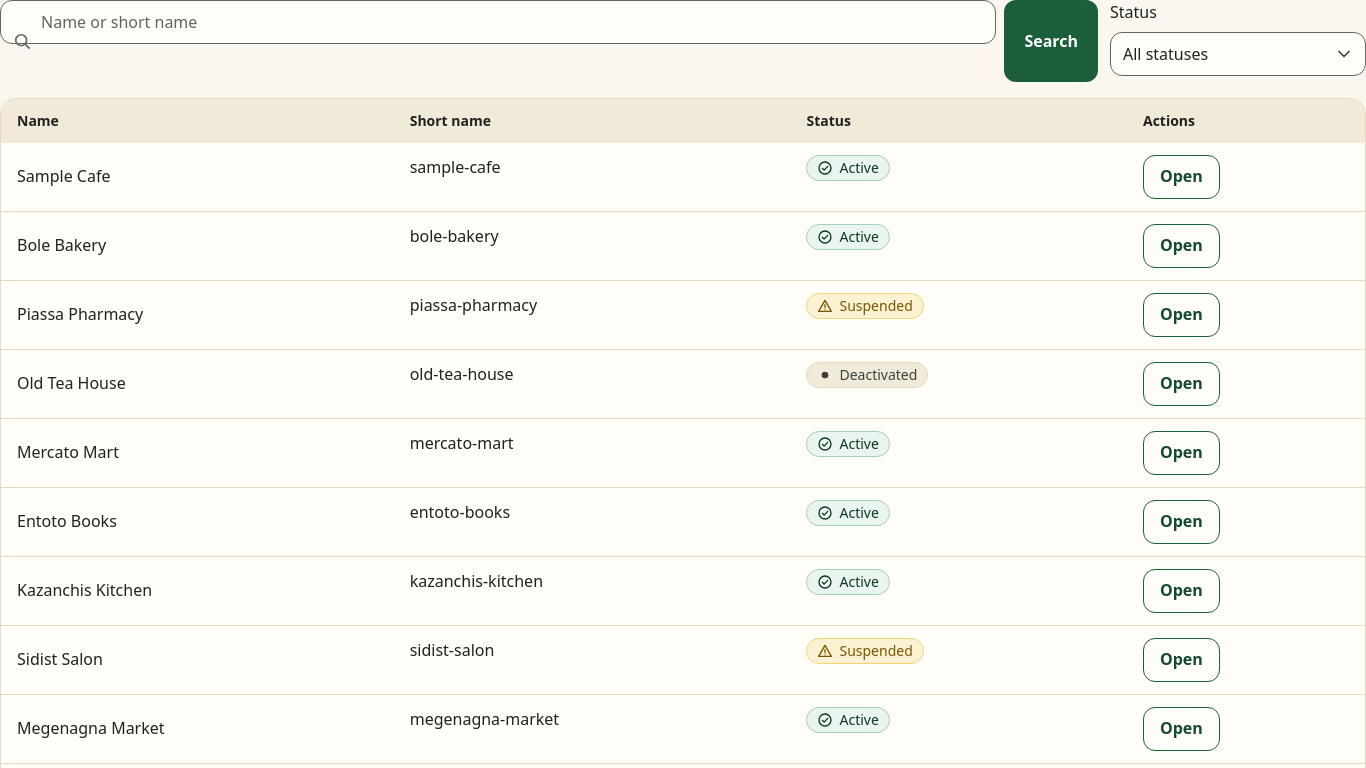
Test: merchants › searches, filters by status, and explains when nothing matches
The image size is (1366, 768).
Step 1. Select "Suspended" in the dropdown labelled "Status" → (1238, 54), box [1110,32,1365,76]
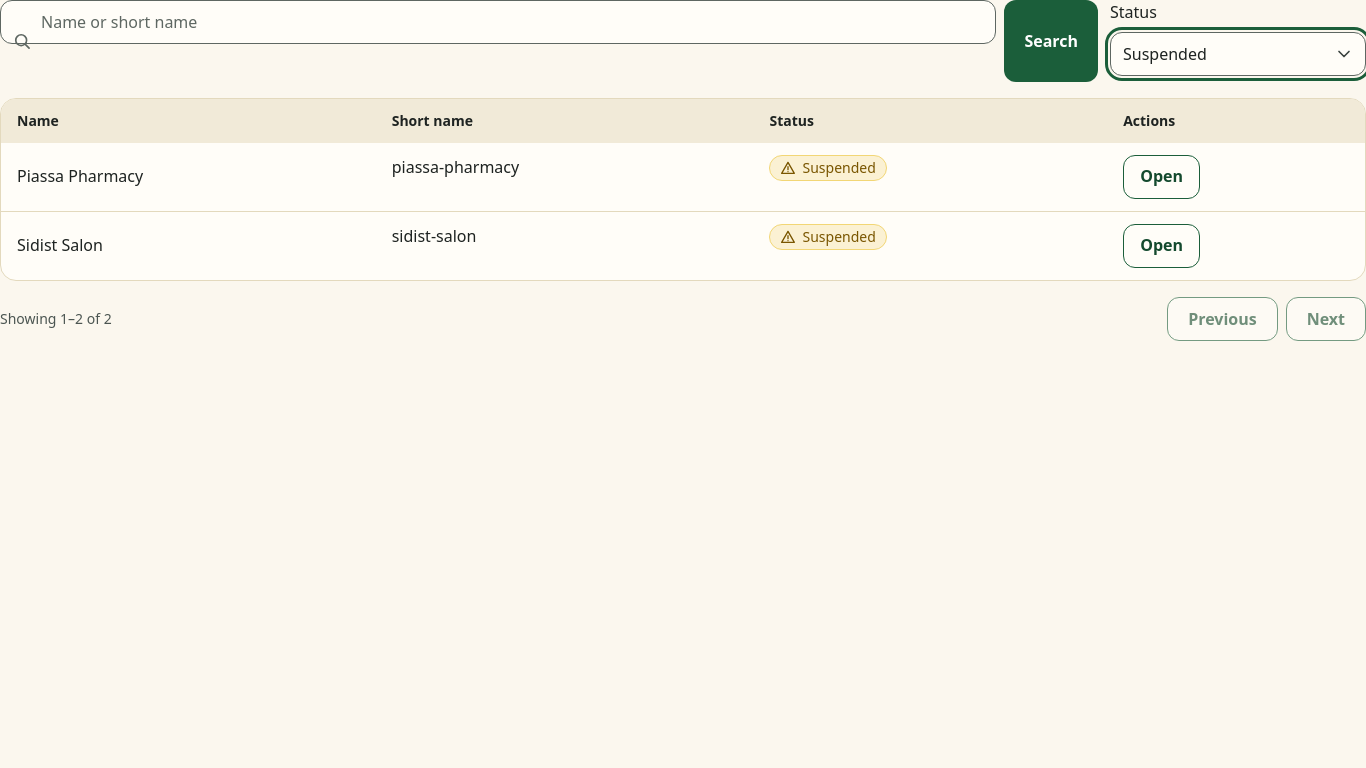
Expected: the text "Suspended" in the row of "Piassa Pharmacy" is shown, [802,158,876,177]
Expected: the text "Suspended" in the row of "Sidist Salon" is shown, [802,227,876,246]
Step 2. Type "zzzz" into the search field named "Search merchants" → (498, 22), box [0,0,996,44]
Then press Enter
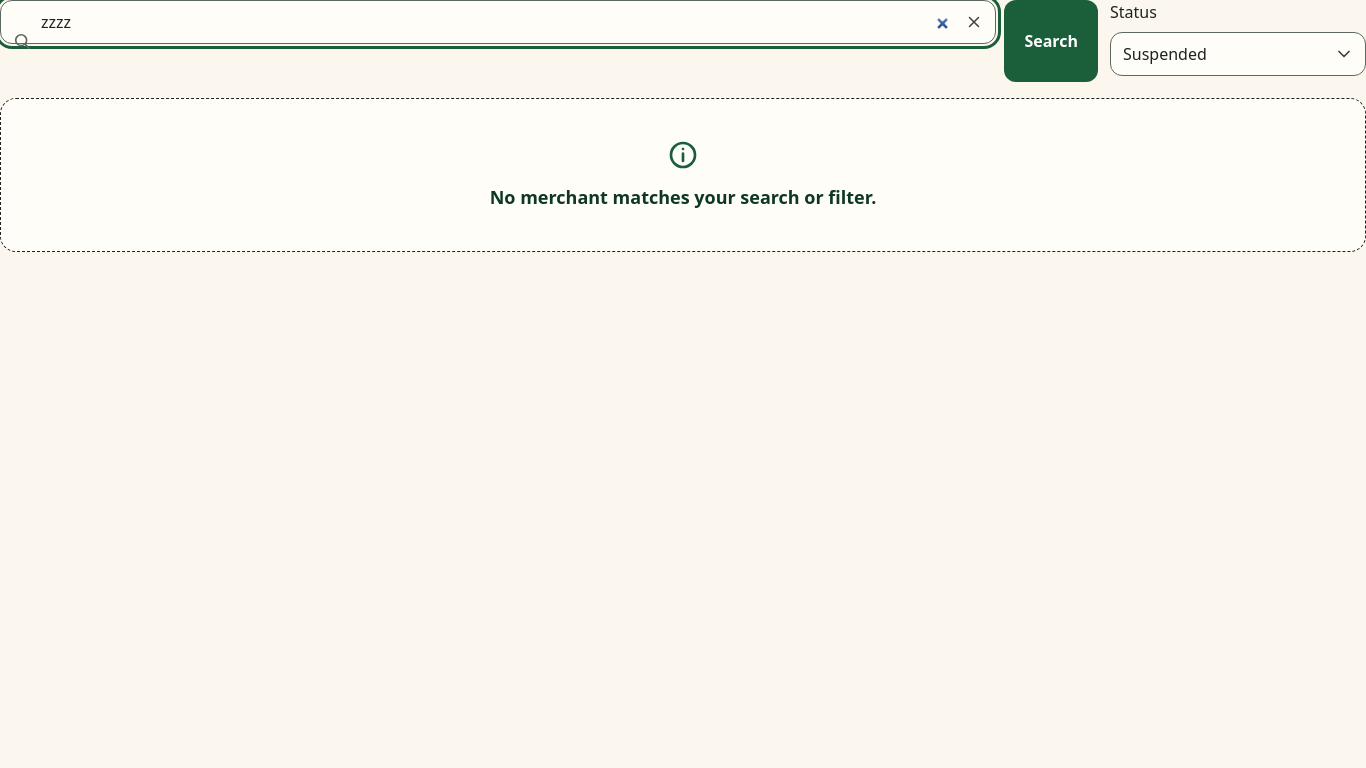
Expected: the heading "No merchant matches your search or filter." is shown, [490,183,876,211]
